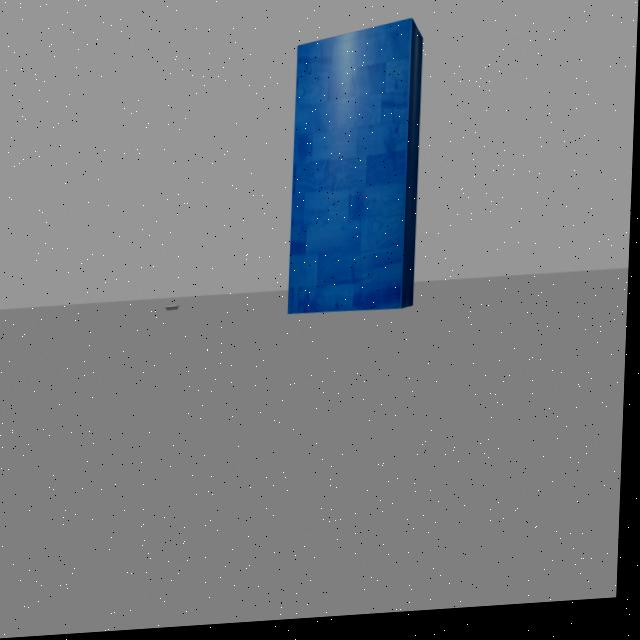bowl: (162, 302, 187, 322)
shelf: (276, 8, 436, 332)
